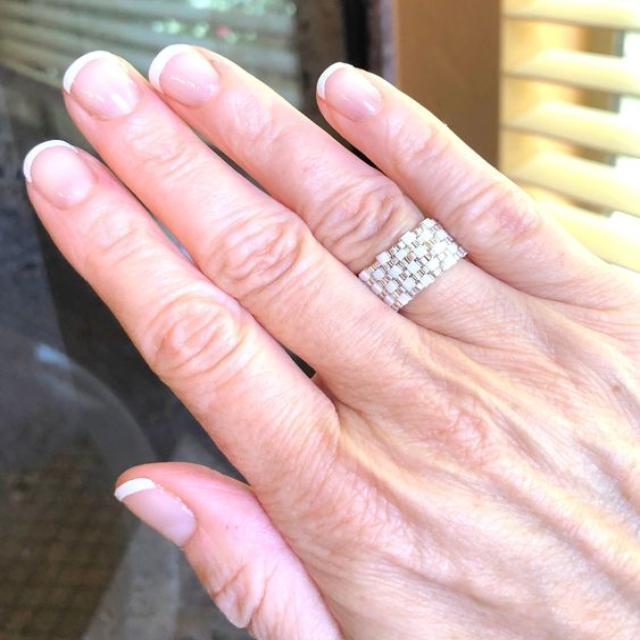Fingernail: (116, 479, 196, 546), (63, 52, 138, 119), (24, 141, 93, 208), (150, 45, 218, 106), (319, 63, 386, 124)
